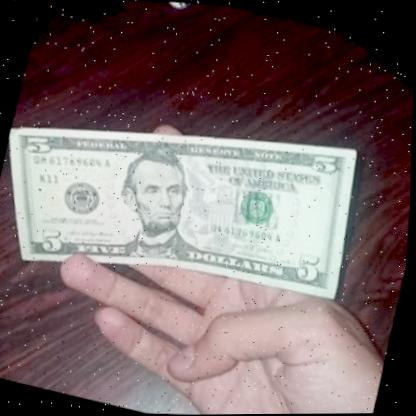five-front: (0, 64, 374, 329)
